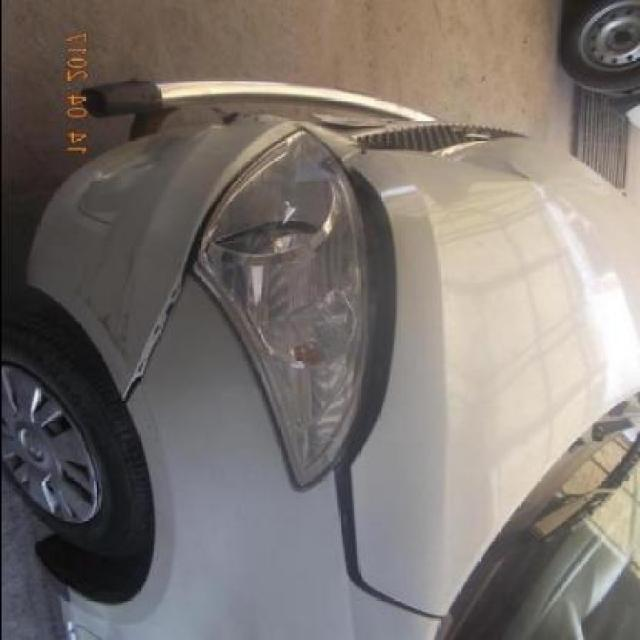damage: (329, 163, 414, 614), (114, 268, 184, 402), (71, 246, 134, 355), (430, 136, 534, 178), (197, 111, 265, 130)
